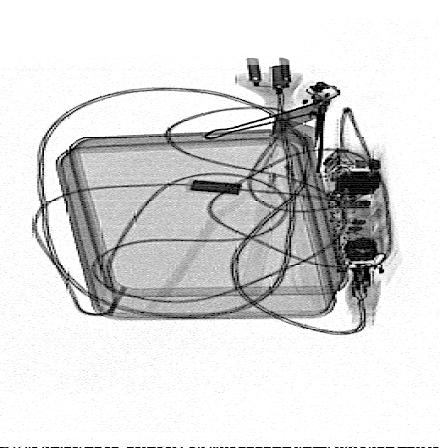Lighter: (272, 117, 316, 148)
